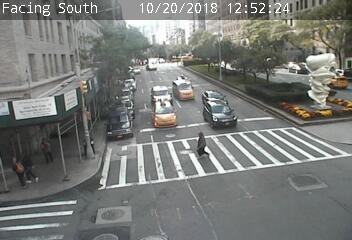car: (200, 102, 238, 135), (152, 102, 175, 127), (173, 79, 192, 100), (204, 89, 223, 103), (153, 86, 167, 97), (146, 60, 158, 71)
